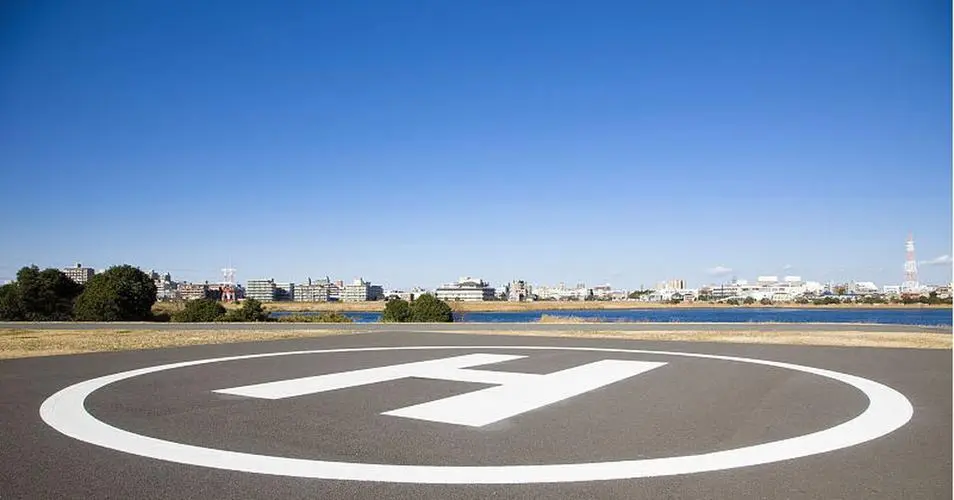Apron: (36, 345, 914, 487)
